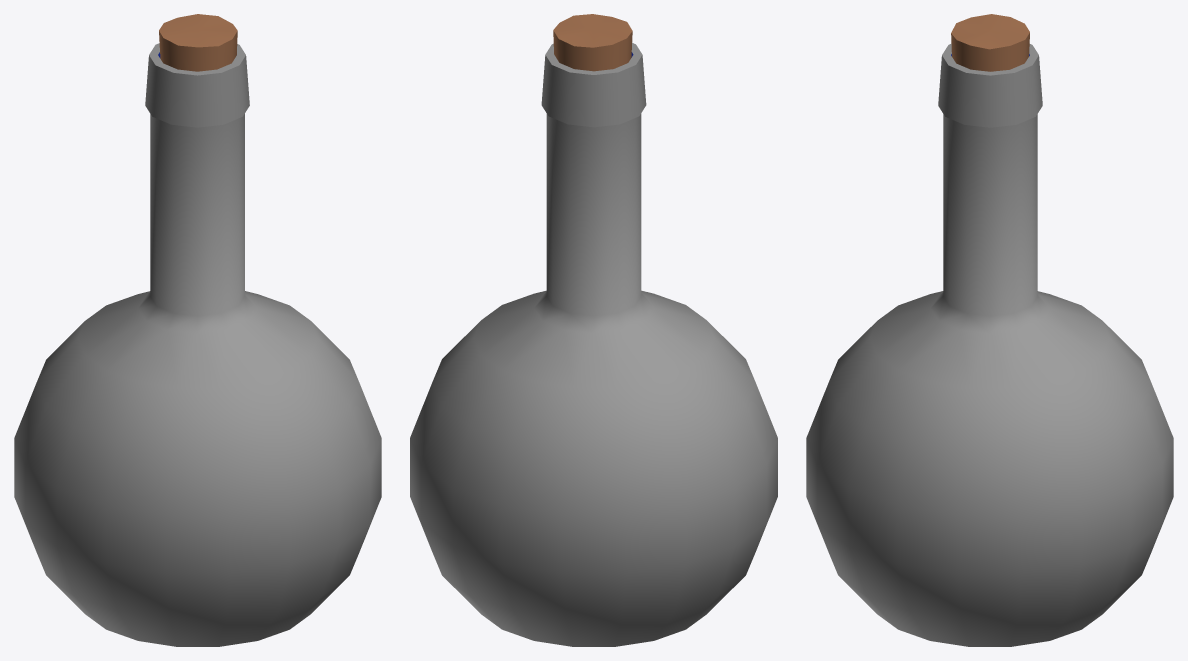
File: Bottle04.FBX
3 views of the same model, side by side, from view 1: azimuth 30°, elevation 25°; view 2: azimuth 150°, elevation 25°; view 3: azimuth 270°, elevation 25° (orthographic).
Parts seen in each view (by area): view 1: Bottle04; view 2: Bottle04; view 3: Bottle04.
Boxes of the visible parts, left/top/right/bottom form: Bottle04: left=14, top=14, right=381, bottom=646; Bottle04: left=410, top=14, right=777, bottom=646; Bottle04: left=806, top=14, right=1173, bottom=646.
Bounding box in the file's own units: 4.58 × 7.92 × 4.65.
